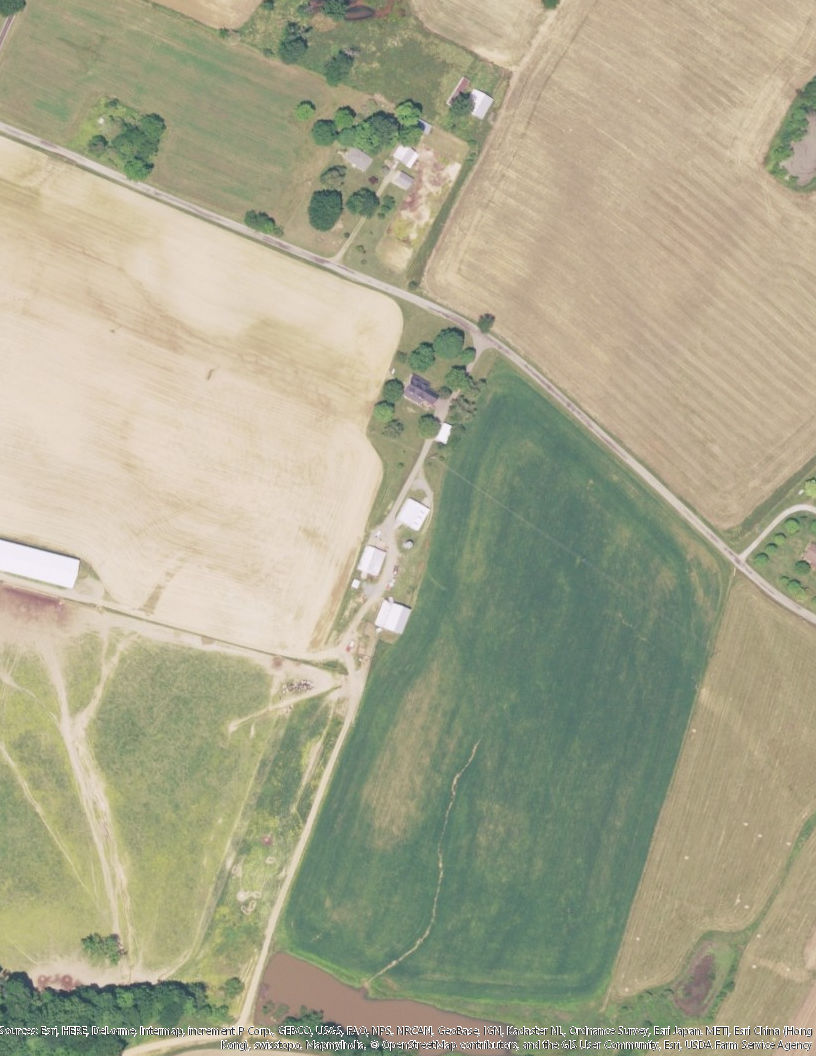cafo: (374, 596, 417, 640), (355, 543, 389, 584)
